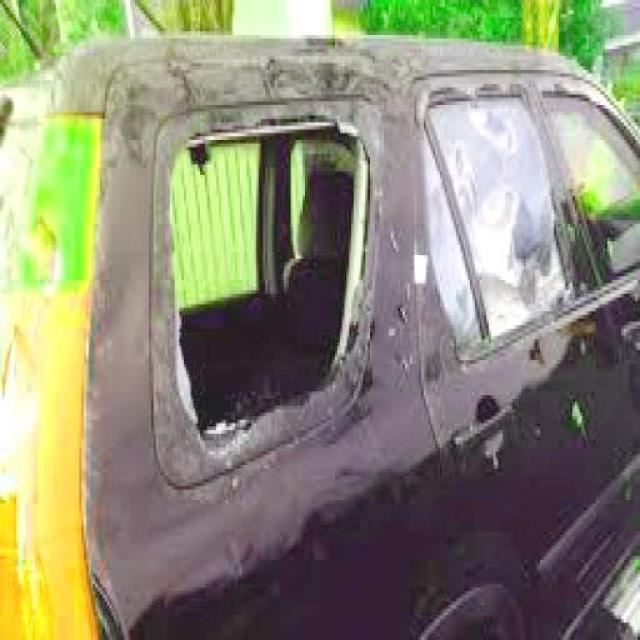car damage: (158, 112, 380, 465)
